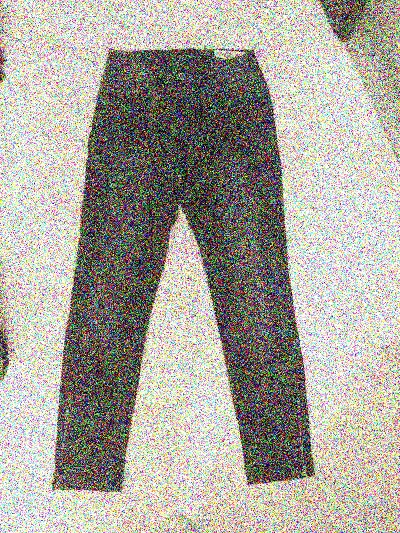Pants: (50, 32, 333, 487)
